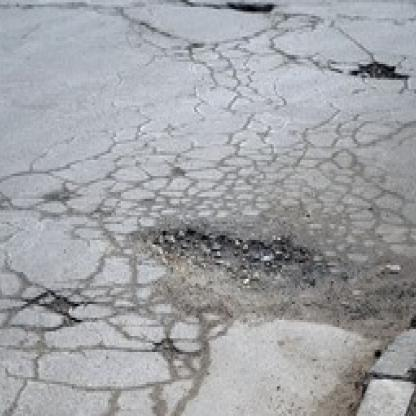pothole: (155, 220, 315, 323), (349, 60, 409, 83), (227, 0, 277, 16)
